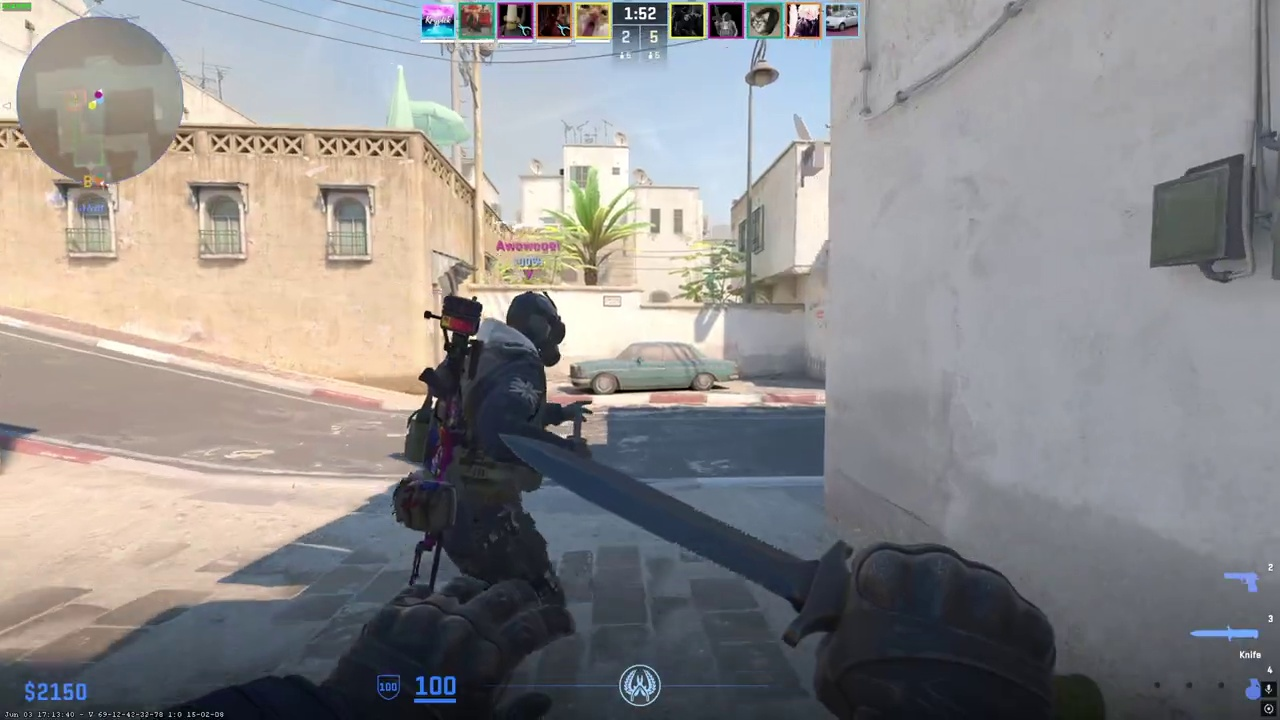CT: (414, 290, 579, 621)
